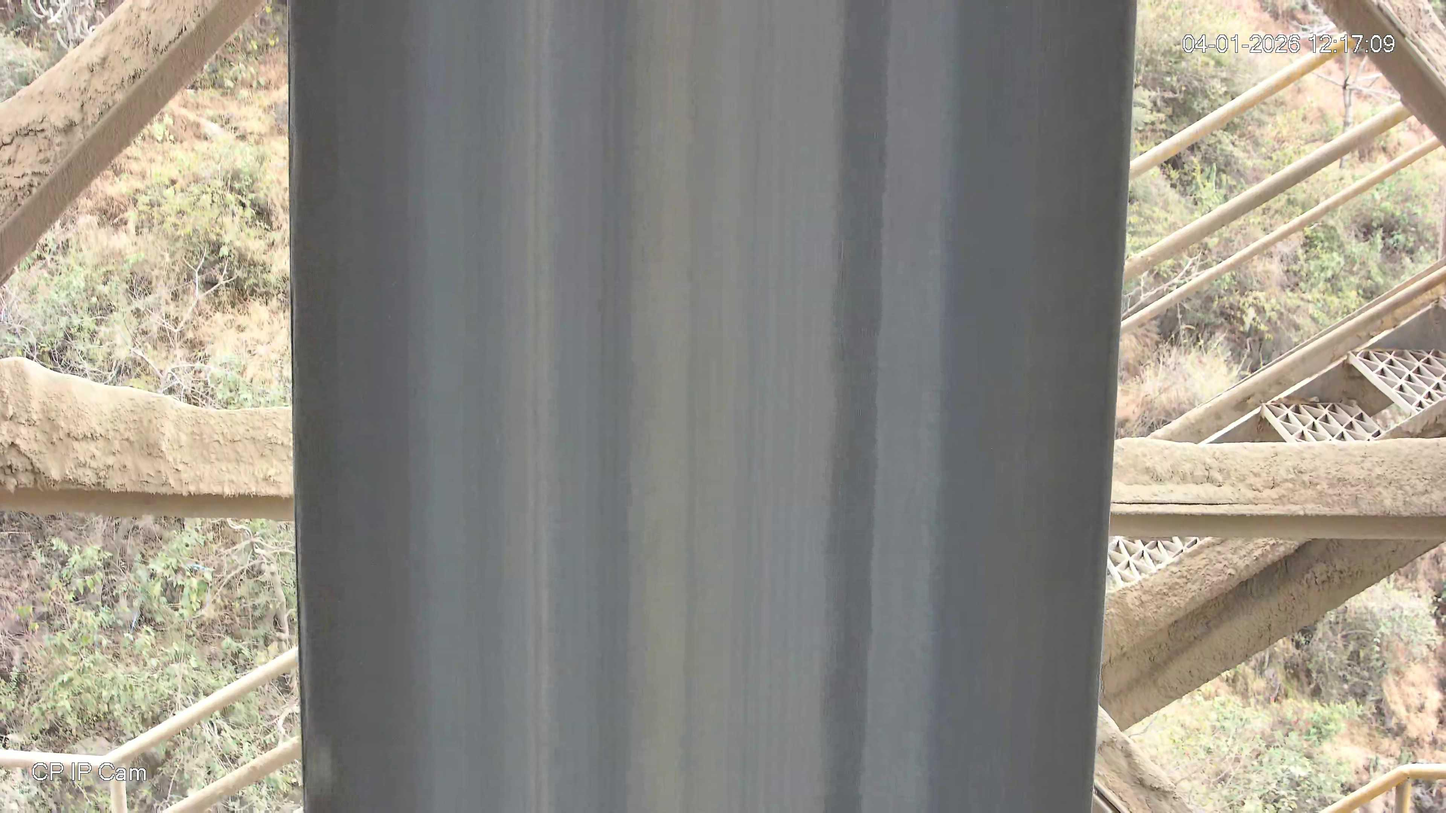belt_roi: (283, 0, 1139, 813)
